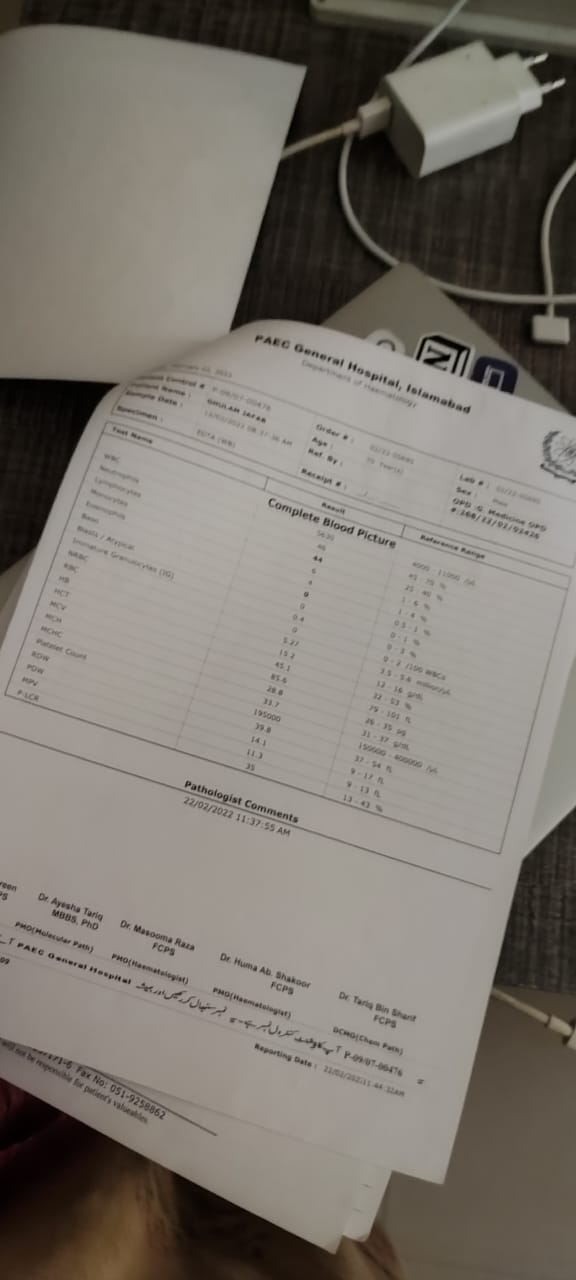report: (9, 415, 569, 864)
